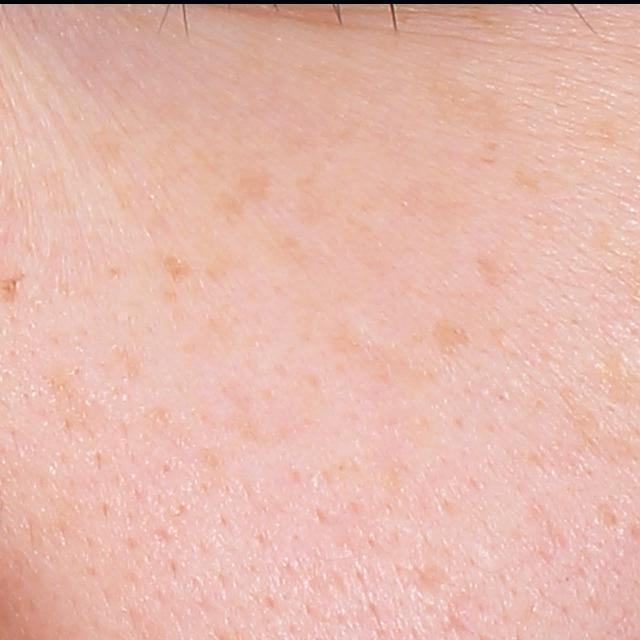melasma: (229, 164, 275, 215), (508, 162, 570, 195), (264, 226, 311, 269), (472, 248, 514, 291), (202, 242, 246, 279), (156, 248, 197, 284)
